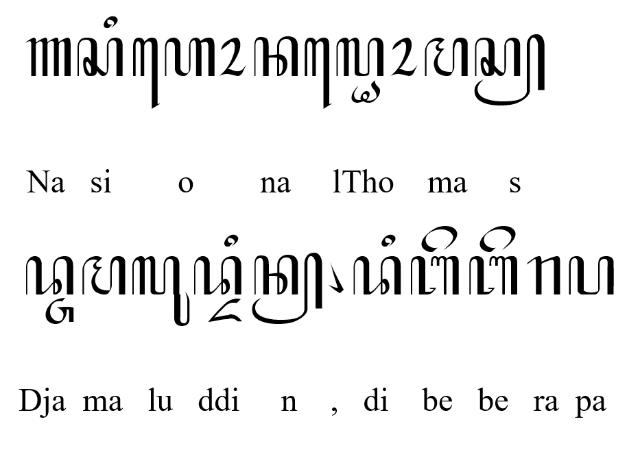-n: (251, 252, 323, 326)
-s: (474, 33, 546, 106)
N: (26, 35, 72, 77)
_d: (208, 298, 242, 324)
_j: (44, 297, 74, 325)
_th: (351, 80, 382, 104)
b: (468, 255, 520, 296), (410, 255, 460, 296)
d: (25, 256, 75, 296), (353, 256, 403, 296), (194, 255, 242, 296)
e: (420, 224, 458, 253), (479, 225, 517, 253)
e1: (304, 36, 332, 111), (132, 37, 160, 111)
h: (164, 36, 216, 78)
i: (380, 234, 396, 248), (104, 15, 118, 28), (224, 234, 238, 247)
kom: (327, 261, 343, 293)
l: (336, 36, 384, 78)
lu: (132, 255, 190, 327)
m: (82, 255, 126, 296), (424, 36, 468, 76)
n: (254, 36, 298, 78)
o: (218, 36, 246, 76), (390, 36, 418, 76)
p: (568, 254, 616, 298)
r: (526, 255, 562, 296)
s: (76, 36, 124, 78)
